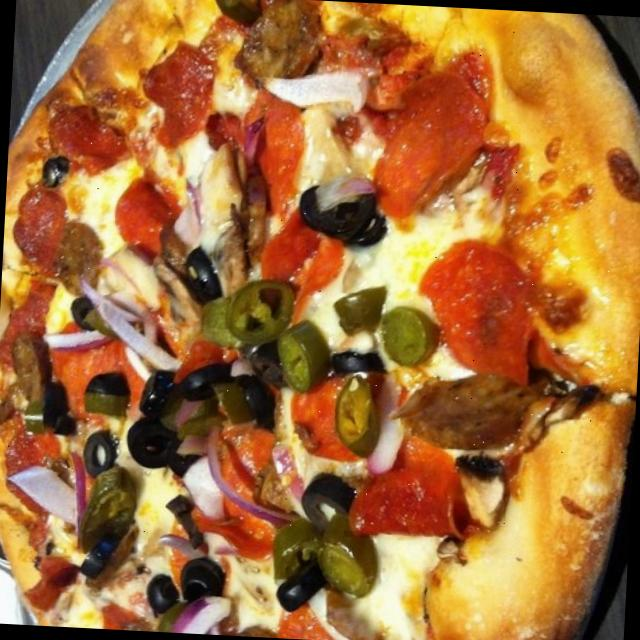Olive: (278, 159, 404, 261), (120, 364, 208, 495), (178, 240, 255, 330), (312, 320, 404, 390), (238, 329, 287, 436), (296, 468, 364, 531), (75, 514, 128, 586), (278, 550, 332, 619), (178, 348, 234, 412), (170, 552, 232, 608), (32, 374, 80, 446), (74, 424, 130, 478), (143, 560, 186, 624), (39, 144, 78, 200), (72, 368, 140, 397)
pepperoni: (410, 239, 566, 396), (365, 52, 490, 236), (344, 448, 487, 542), (130, 42, 222, 156), (235, 82, 302, 216), (36, 102, 130, 182), (0, 432, 68, 508)
pizza: (0, 0, 640, 640)
